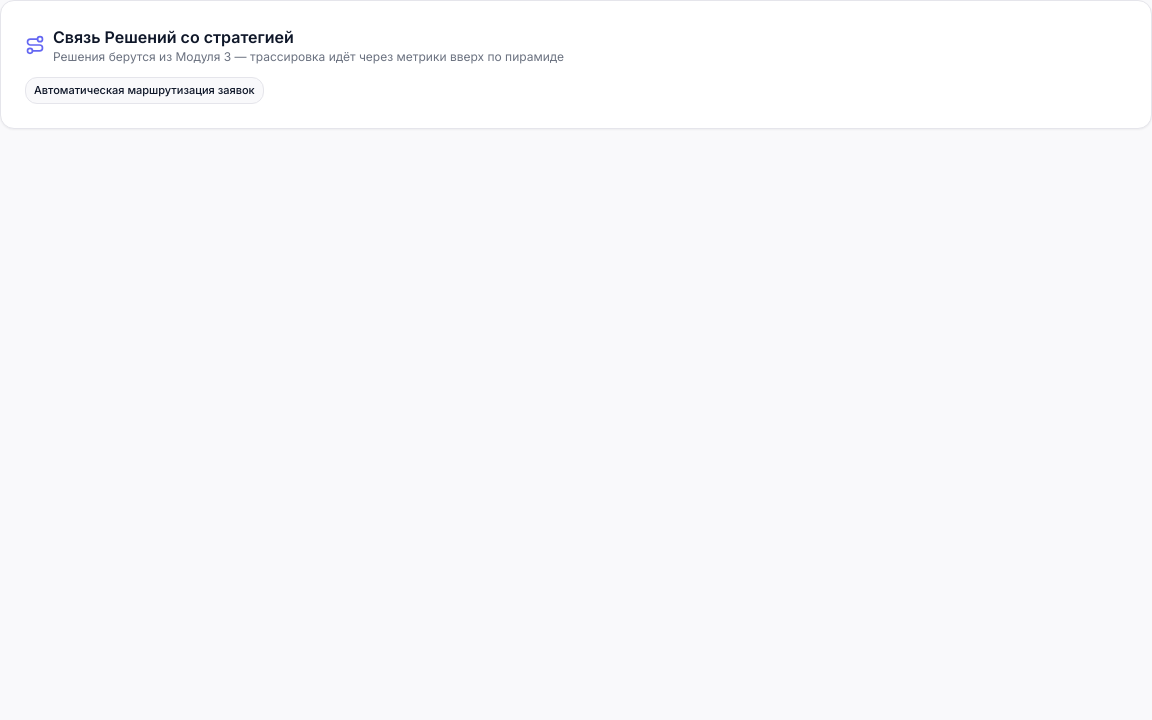
Scenario: SolutionTrace › при выборе Решения метрика KR-происхождения автоподставляется
Click the button with test id "trace-solution-kr-0:0" at (144, 90), box 25,77 -> 264,104
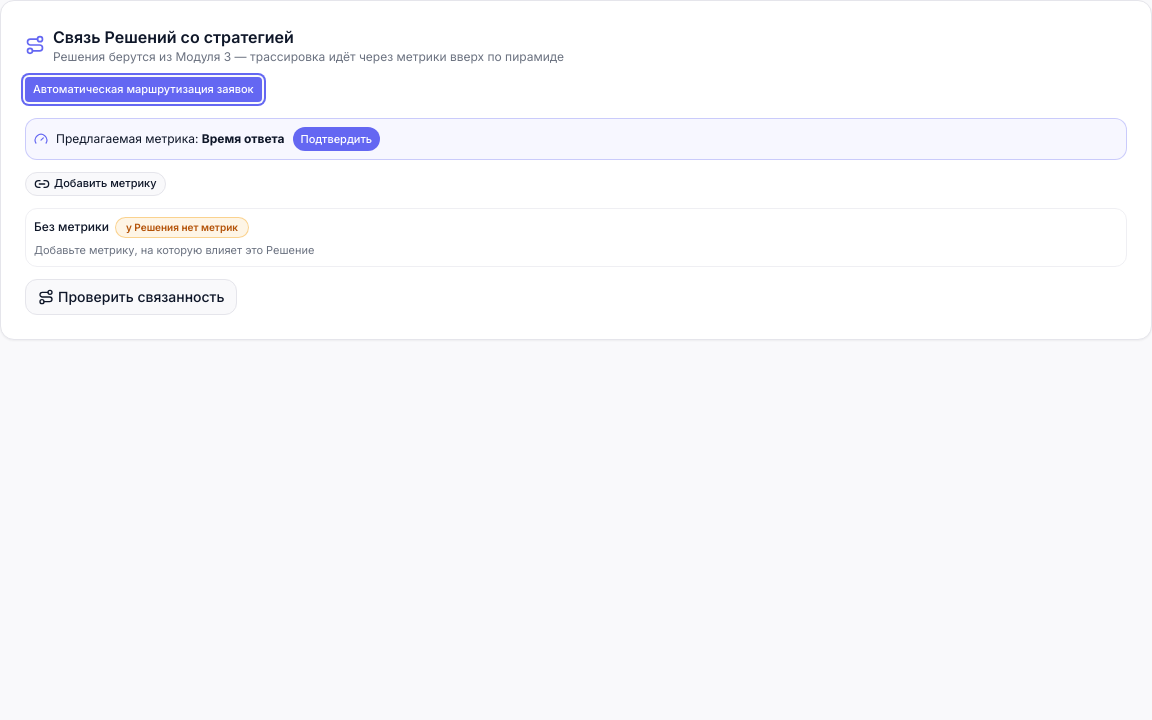
Expected: the element with test id "trace-suggested-metric" shows "Время ответа", 202,130 -> 284,146
Click the button "Подтвердить" at (336, 138), box 292,126 -> 380,150
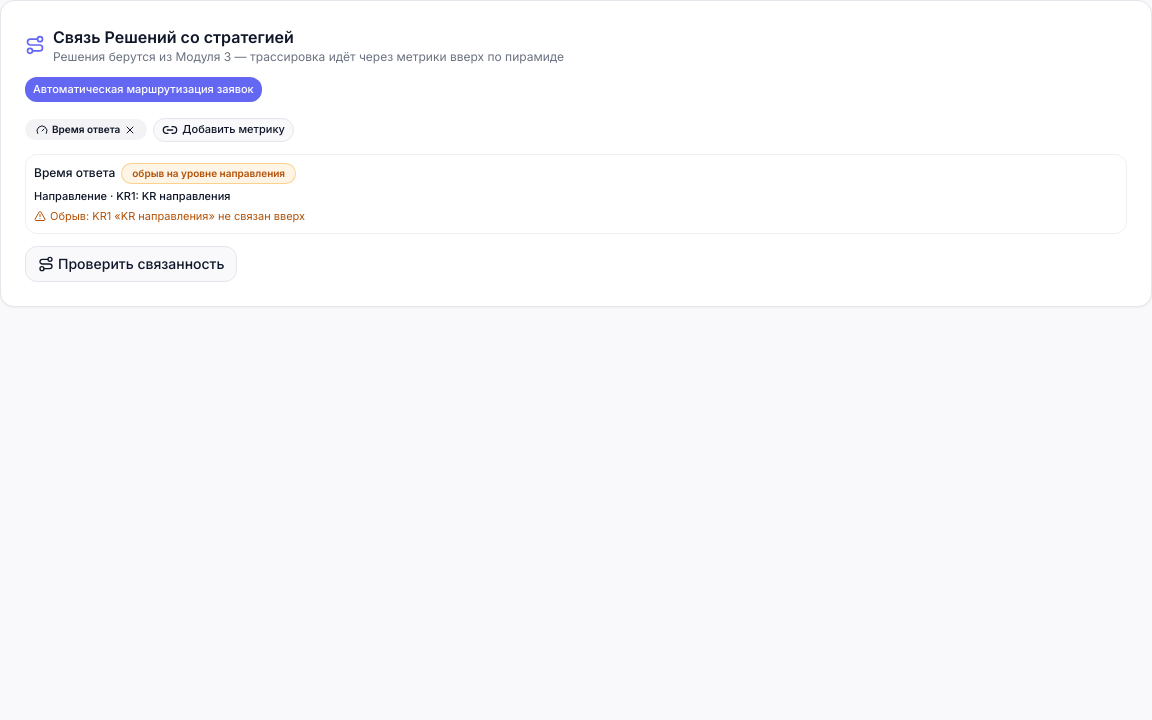
Expected: the list item with test id "trace-chain-m1" is shown, 25,154 -> 1127,234
# можно добавить другие метрики
Click the button "Добавить метрику" at (224, 130), box 153,118 -> 294,142
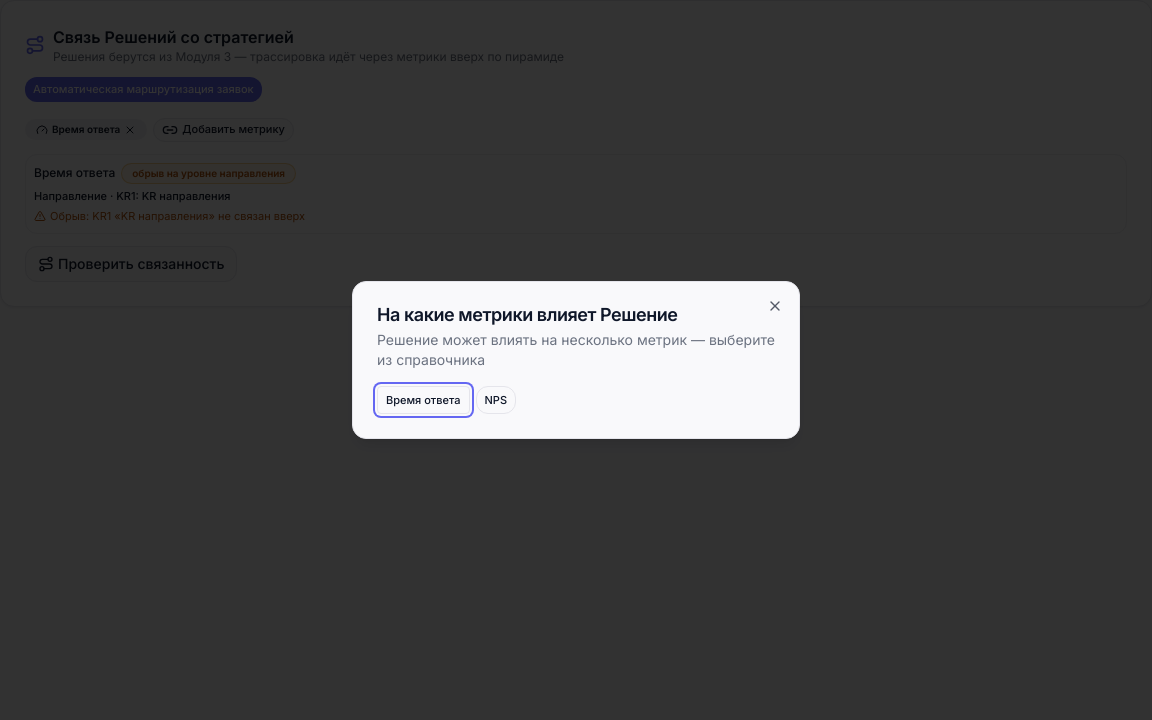
Click the button "NPS" at (496, 400), box 476,386 -> 516,414
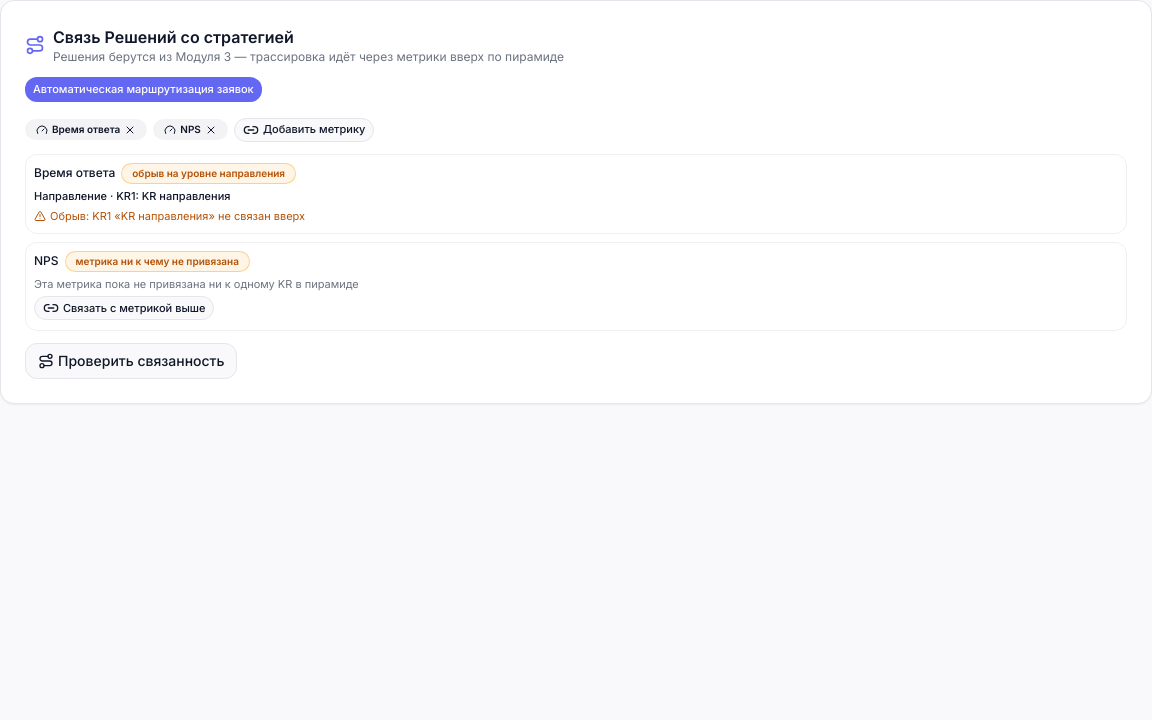
Expected: the list item with test id "trace-chain-m2" is shown, 25,242 -> 1127,331
